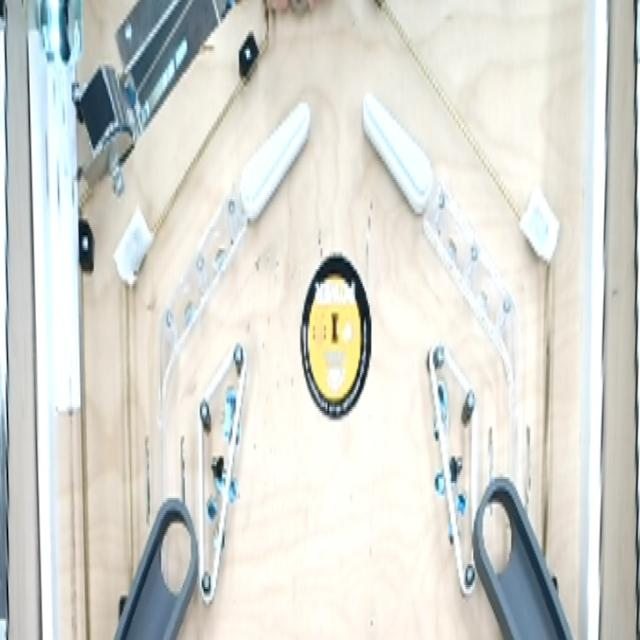flipper-left: (358, 86, 438, 227)
flipper-right: (238, 93, 312, 225)
